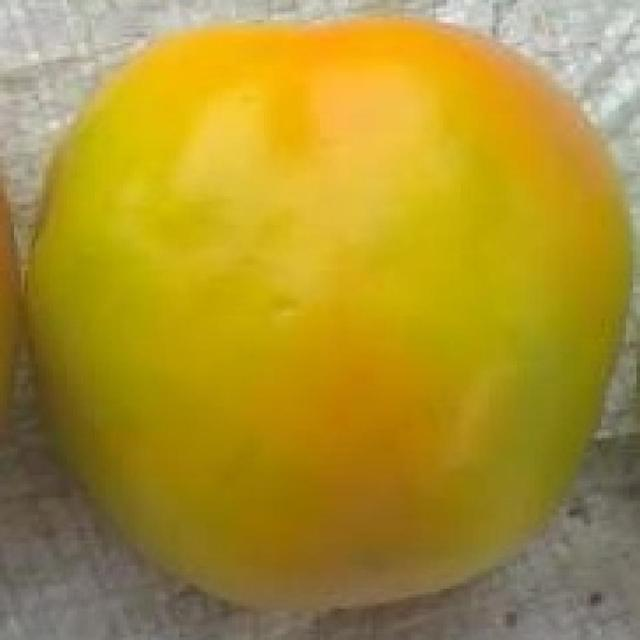Spotted wilt Virus Fruit: (16, 8, 422, 406)
